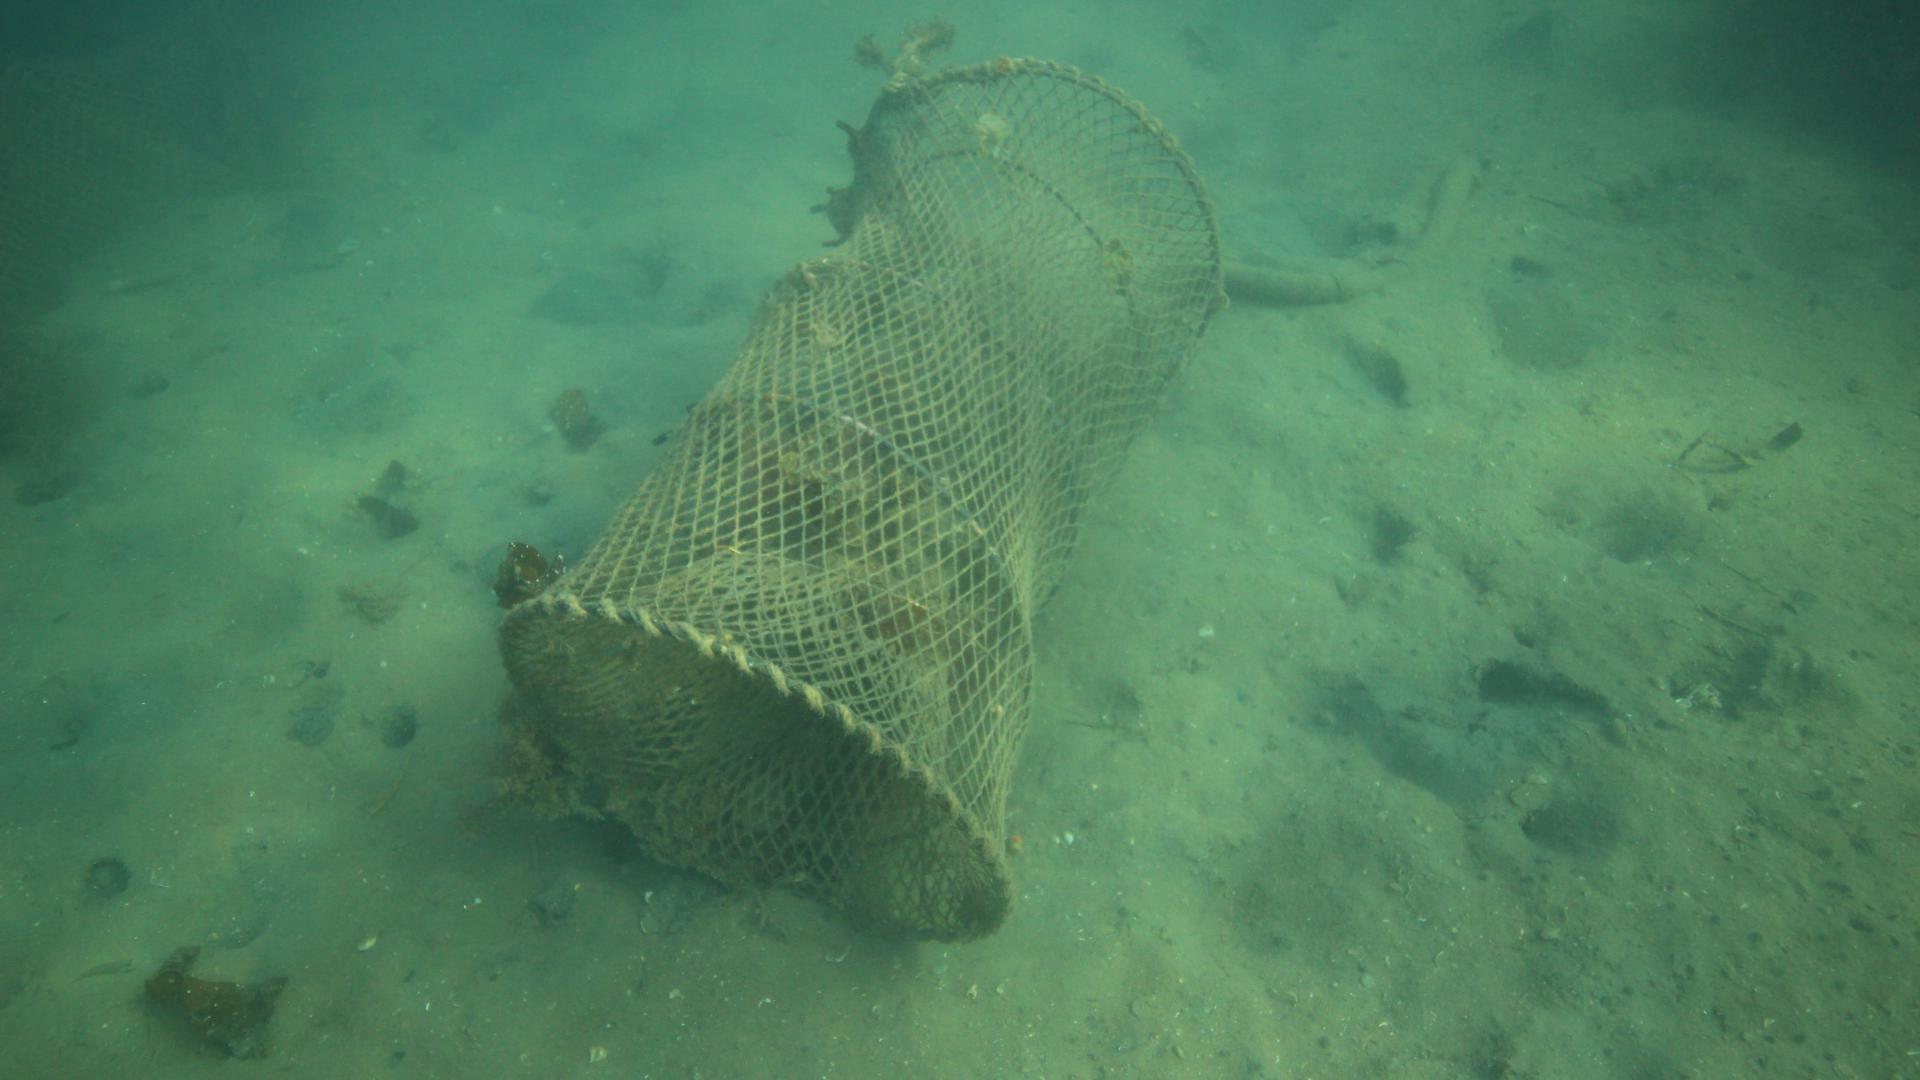spring fish trap: (495, 55, 1224, 944)
